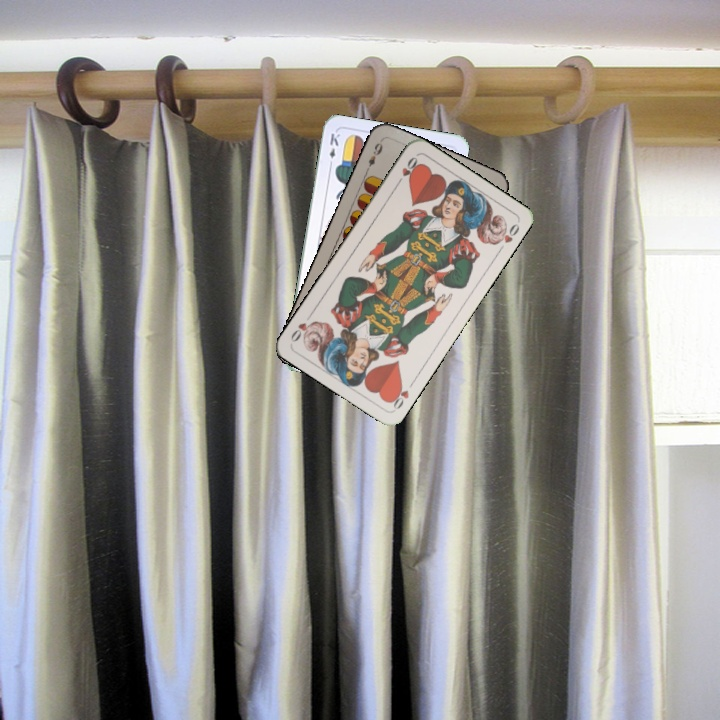E9: (362, 136, 385, 175)
EK: (325, 129, 342, 170)
HO: (385, 376, 417, 413), (392, 153, 421, 188)
